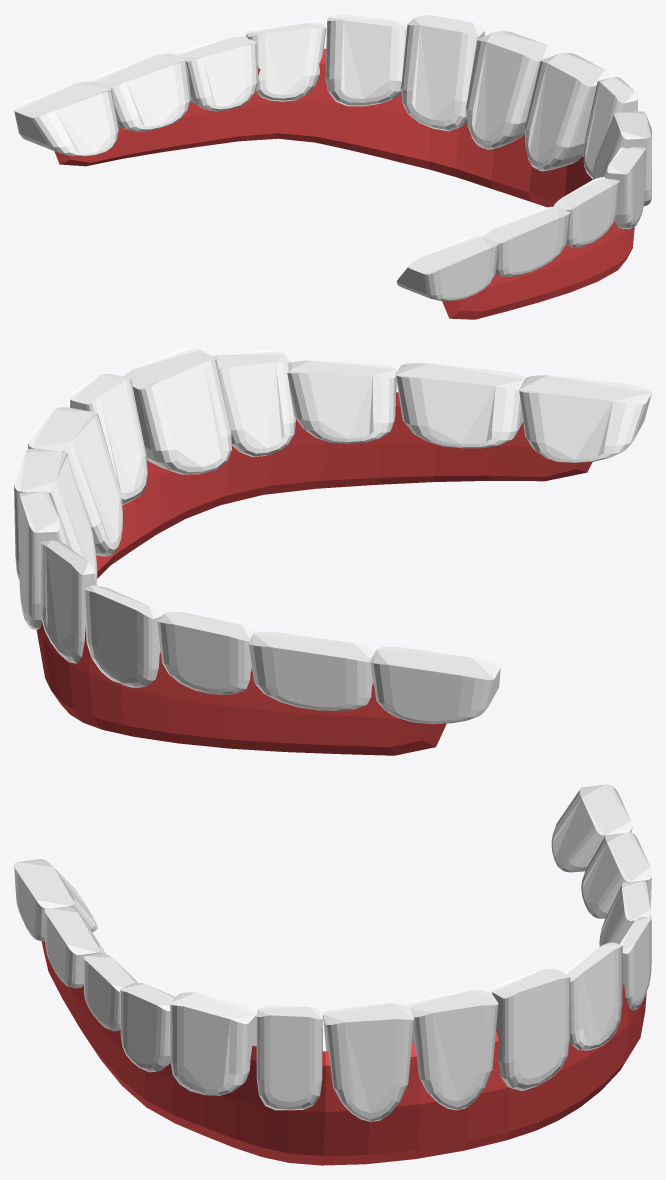
File: teeth_lower.glb
The picture shows the model from 3 angles, top to bottom: view 1: azimuth 30°, elevation 25°; view 2: azimuth 150°, elevation 25°; view 3: azimuth 270°, elevation 25°; orthographic projection. The views are drawn at different scales.
Visible parts, largest first — view 1: Box016, Box030; view 2: Box016, Box030; view 3: Box016, Box030.
Part boxes in pixels (bbox=[...]): Box016: bbox=[14, 14, 651, 301]; Box030: bbox=[54, 48, 634, 319]; Box016: bbox=[14, 348, 651, 724]; Box030: bbox=[36, 392, 592, 755]; Box016: bbox=[14, 784, 651, 1121]; Box030: bbox=[41, 941, 646, 1165].
Size of the model in its own units: 3.31 by 0.9999 by 3.52.
